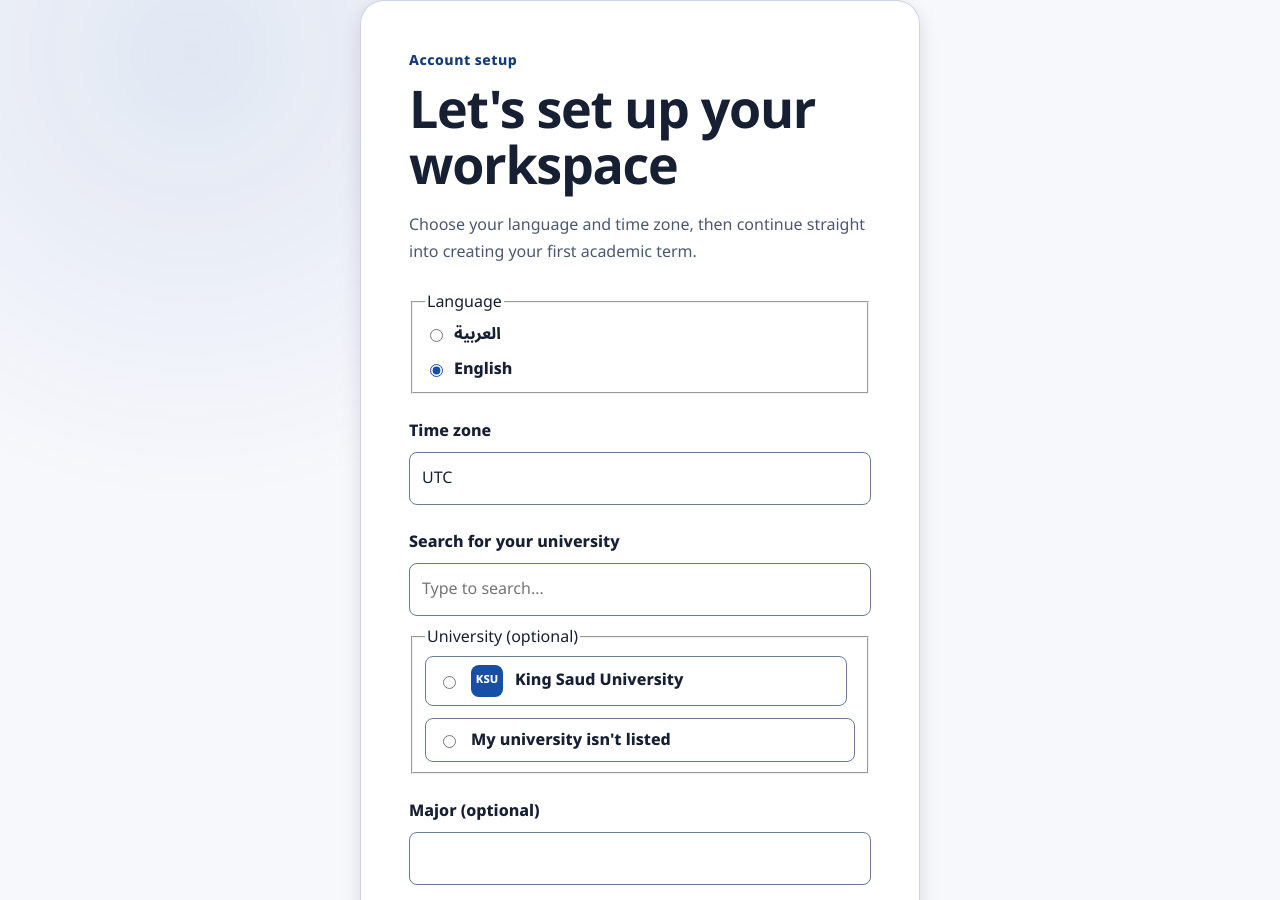
onboarding form › filters the university list by search text
The width and height of the screenshot is (1280, 900).
Type "does not exist" into the field labelled "Search for your university" at [640, 589], box [409, 563, 871, 616]
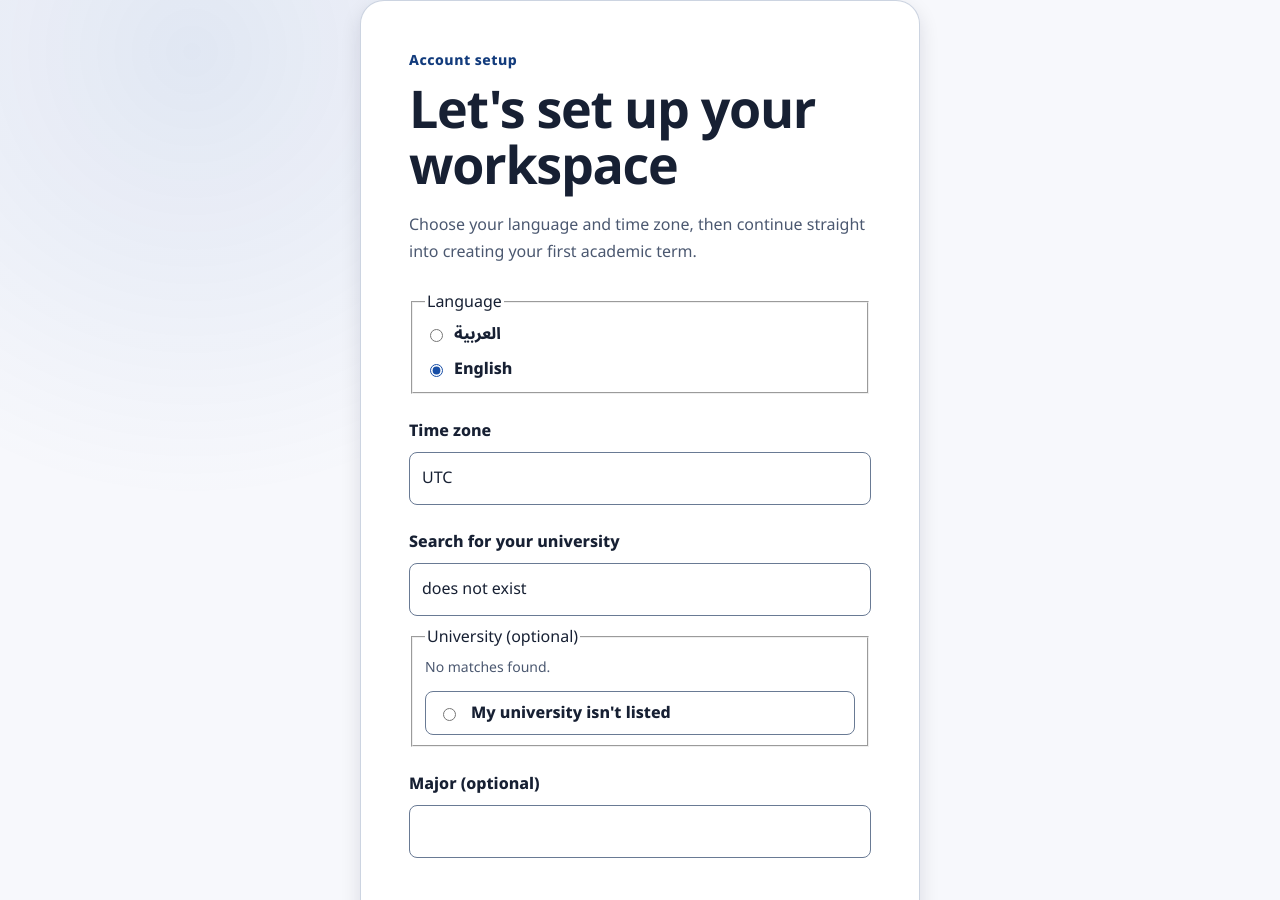
Check: the text labelled "King Saud University" is gone
Check: the text "No matches found." is shown, box [425, 656, 550, 679]
